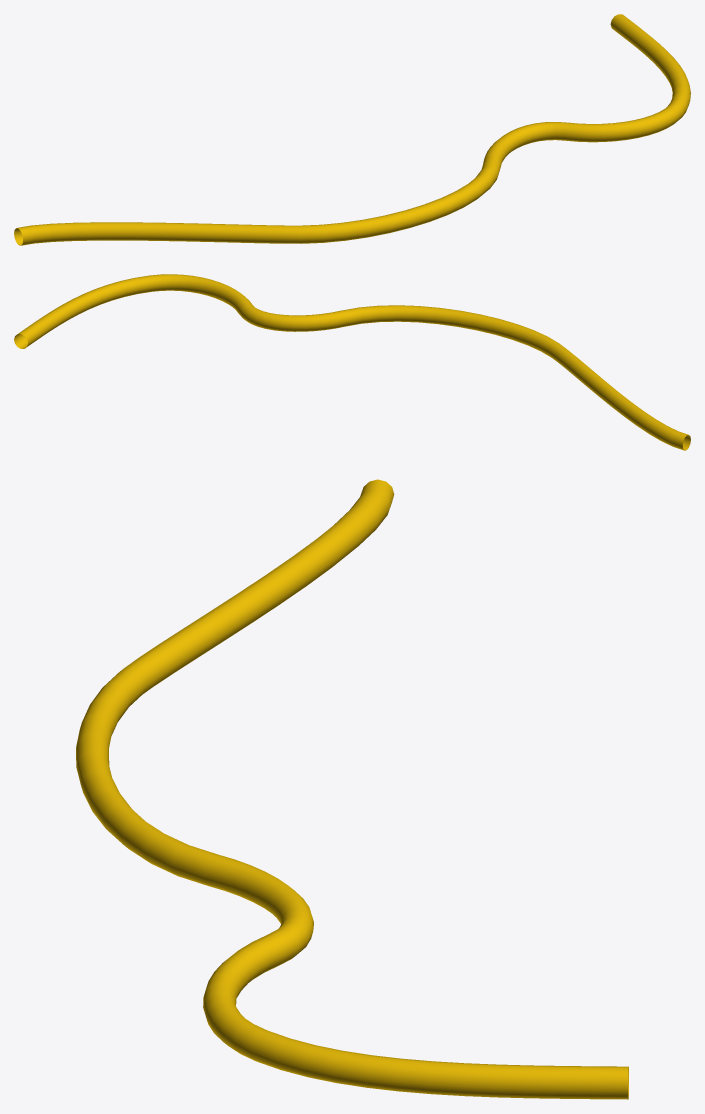
File: cavoGrossoCorto.fbx
The picture shows the model from 3 angles, top to bottom: view 1: azimuth 30°, elevation 25°; view 2: azimuth 150°, elevation 25°; view 3: azimuth 270°, elevation 25°; orthographic projection. The views are drawn at different scales.
Parts seen in each view (by area): view 1: BezierCurve; view 2: BezierCurve; view 3: BezierCurve.
Boxes of the visible parts, <box> form: BezierCurve: <box>14,14,690,245</box>; BezierCurve: <box>14,274,690,450</box>; BezierCurve: <box>76,479,628,1099</box>.
Bounding box in the file's own units: 341 × 8 × 134.
